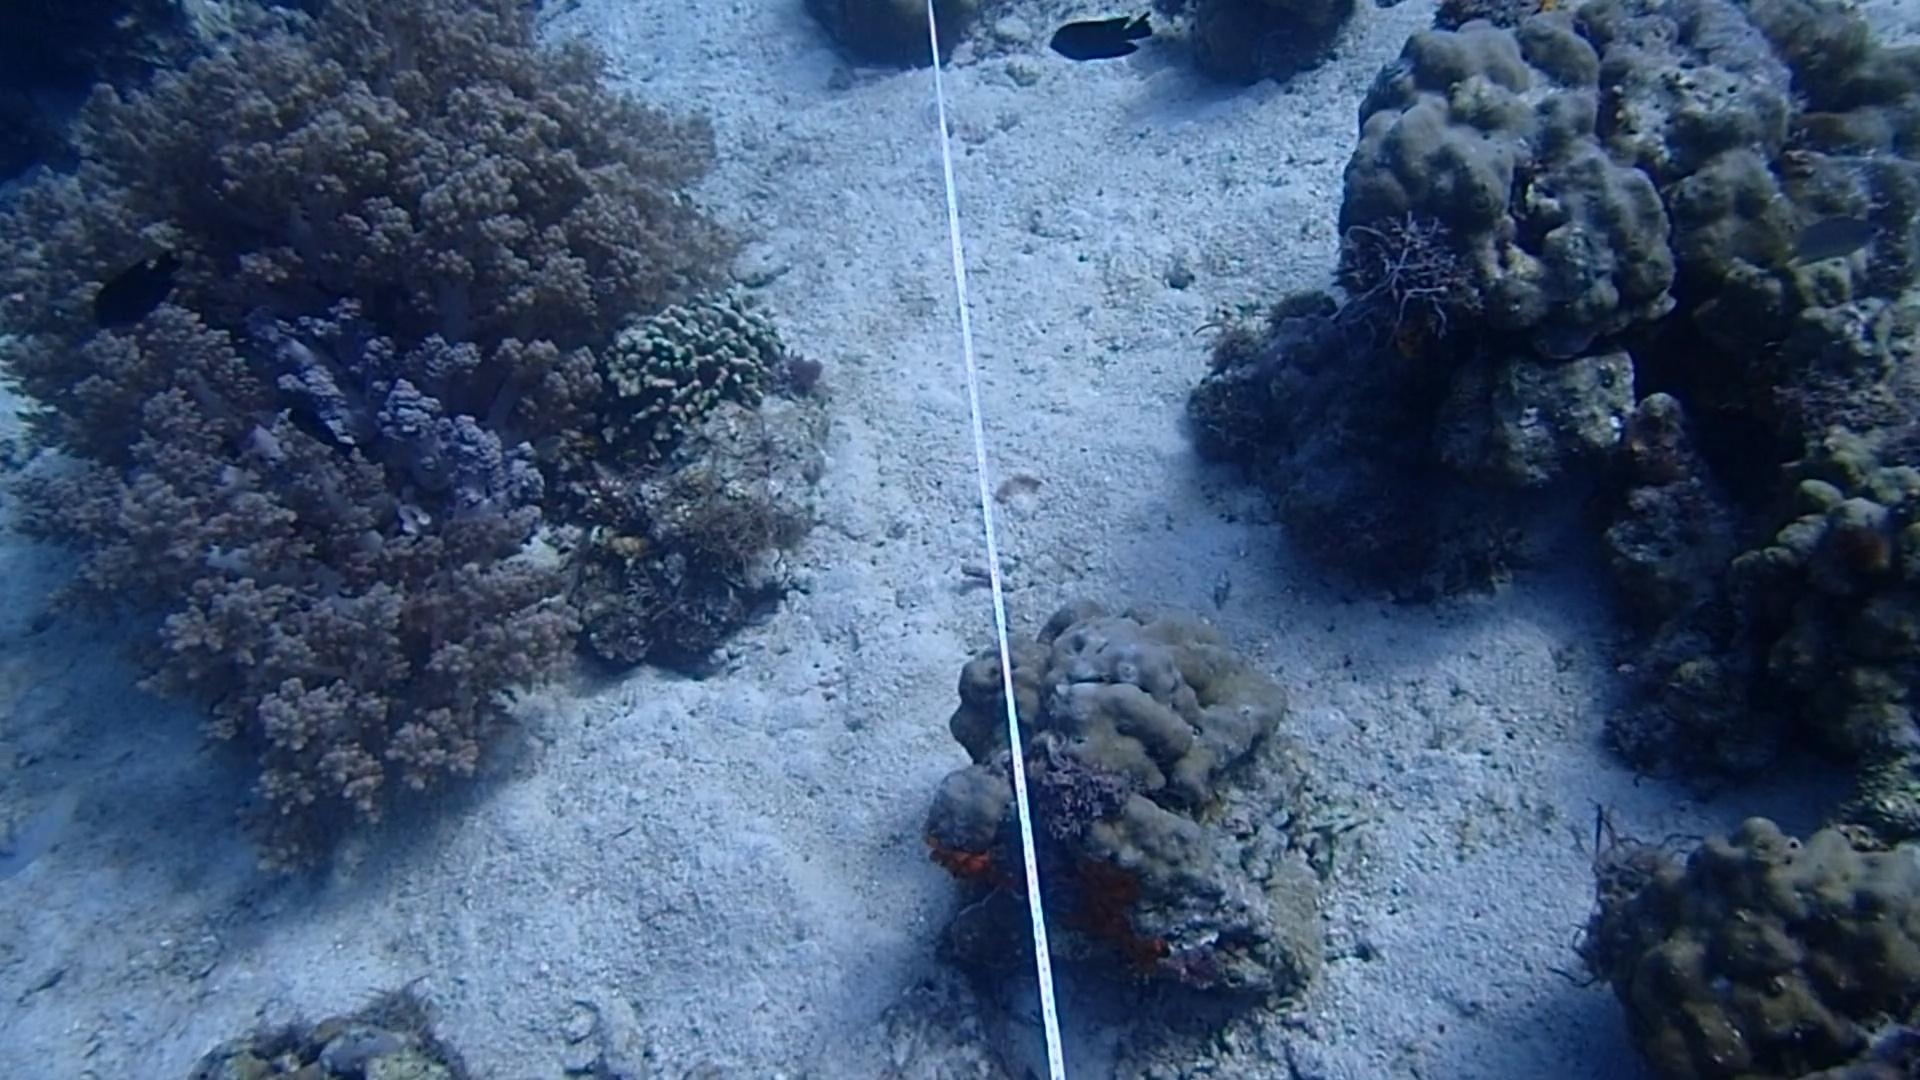Dark Fish: (83, 241, 191, 351), (1039, 3, 1164, 67), (270, 389, 359, 471)
Light Fish w Back Stripes: (0, 765, 84, 887)
